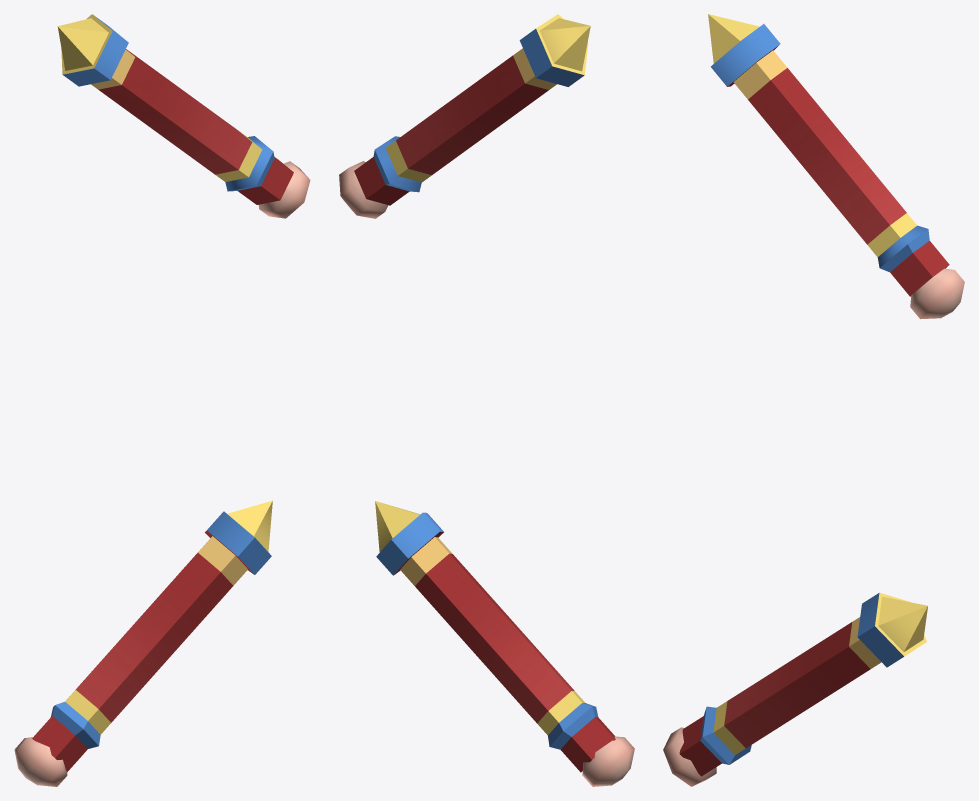
The model's file is Shoubi.FBX.
3 views of the same model, side by side, from view 1: azimuth 30°, elevation 25°; view 2: azimuth 150°, elevation 25°; view 3: azimuth 330°, elevation 25° (orthographic). The views are drawn at different scales.
Visible parts, largest first — view 1: Object028; view 2: Object028; view 3: Object028.
Boxes of the visible parts, x1=… form: Object028: x1=14, y1=14, x2=310, y2=786; Object028: x1=339, y1=14, x2=634, y2=786; Object028: x1=663, y1=14, x2=964, y2=786.
Bounding box in the file's own units: 4.07 × 10.3 × 0.859.
1 material, 1 textured.
